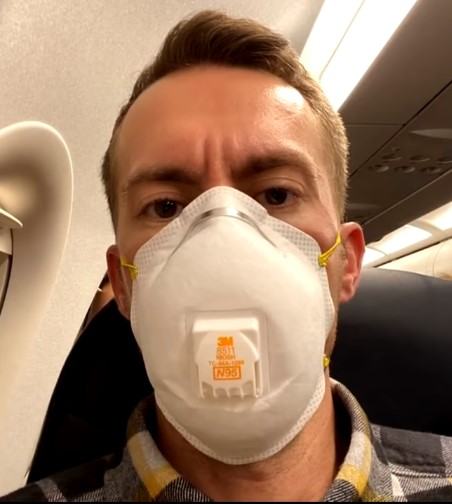face_with_mask: (100, 54, 370, 471)
